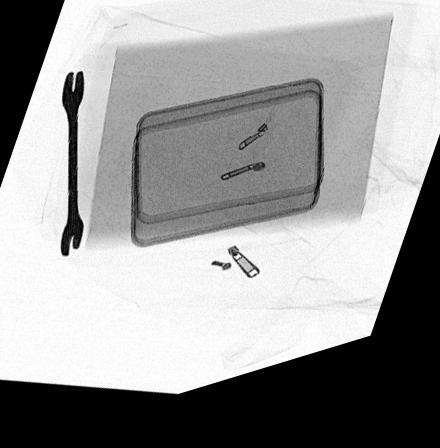Wrench: (58, 72, 84, 257)
